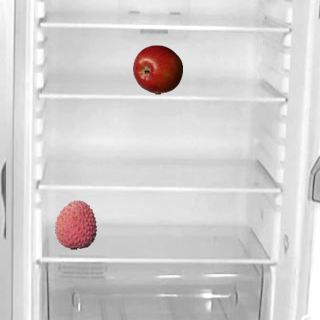Apple Braeburn: (132, 44, 182, 94)
Lychee: (50, 199, 100, 249)
